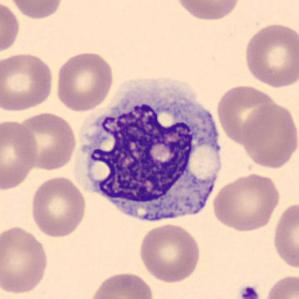Monocyte: (72, 73, 225, 231)
Platelets: (237, 284, 262, 299)
RBC: (210, 172, 281, 232), (13, 110, 79, 172), (53, 49, 116, 113), (137, 222, 203, 283), (215, 83, 279, 145), (28, 174, 88, 239), (241, 102, 298, 170), (243, 20, 298, 89), (0, 223, 50, 296), (0, 50, 56, 113), (0, 117, 40, 192), (86, 269, 156, 299), (271, 200, 298, 271), (172, 0, 243, 22), (6, 0, 66, 21), (0, 0, 21, 56), (262, 272, 298, 299)
